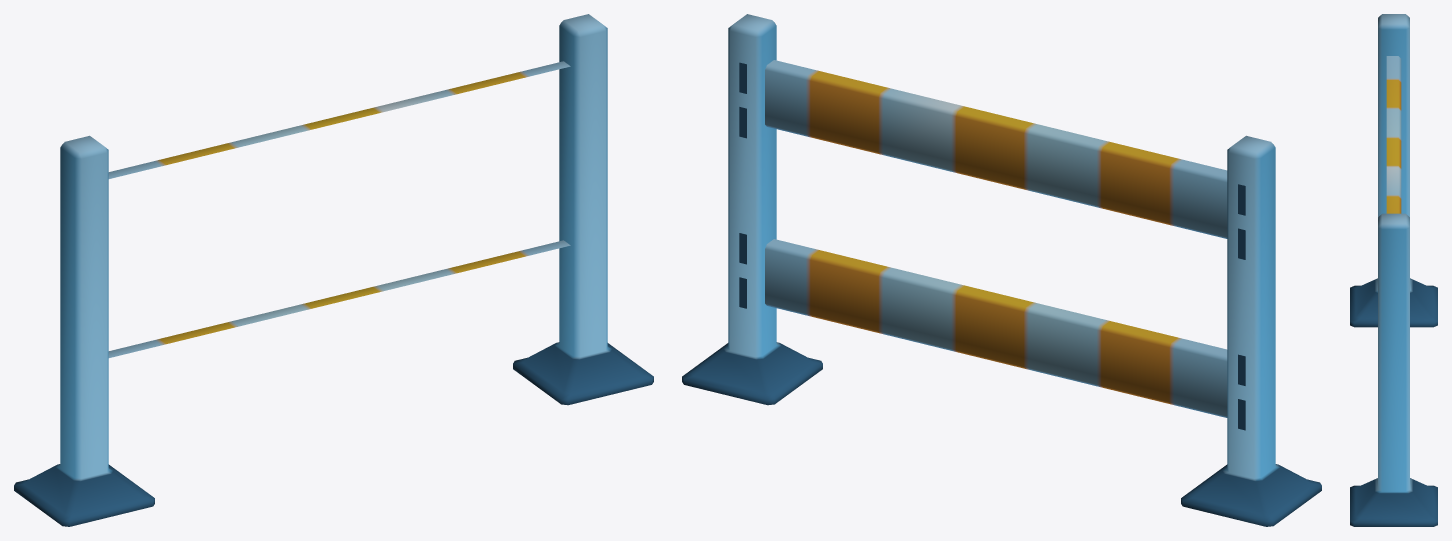
Rendered from RoadWorksBarrier02Night.glb.
The picture shows the model from 3 angles, left to right: view 1: azimuth 30°, elevation 25°; view 2: azimuth 150°, elevation 25°; view 3: azimuth 270°, elevation 25°; orthographic projection. The views are drawn at different scales.
Visible parts, largest first — view 1: RoadWorksBarrier02Night; view 2: RoadWorksBarrier02Night; view 3: RoadWorksBarrier02Night.
Part boxes in pixels (box(x1,y1,x2,y2)): RoadWorksBarrier02Night: box(14, 14, 653, 526); RoadWorksBarrier02Night: box(682, 14, 1321, 526); RoadWorksBarrier02Night: box(1350, 14, 1437, 526).
Bounding box in the file's own units: 2.72 × 1.55 × 0.4257.
